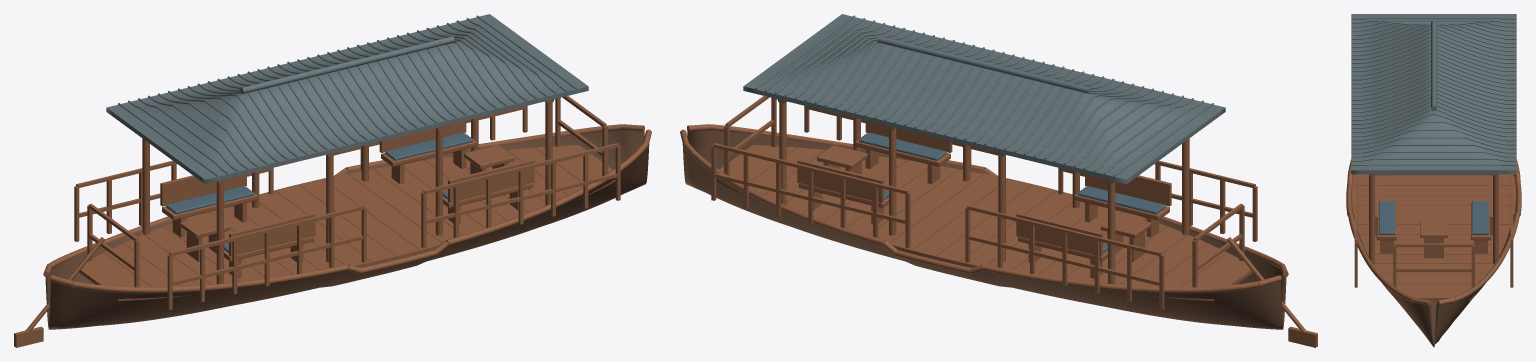
File: barge-lod0.glb
3 views of the same model, side by side, from view 1: azimuth 30°, elevation 25°; view 2: azimuth 150°, elevation 25°; view 3: azimuth 270°, elevation 25° (orthographic). The views are drawn at different scales.
Visible parts, largest first — view 1: barge.wood, barge.roof, barge.hull, barge.cushion; view 2: barge.wood, barge.roof, barge.hull, barge.cushion; view 3: barge.roof, barge.wood, barge.hull, barge.cushion.
Part boxes in pixels (bbox=[...]): barge.wood: bbox=[14, 96, 651, 347]; barge.roof: bbox=[106, 14, 588, 184]; barge.hull: bbox=[45, 127, 649, 329]; barge.cushion: bbox=[166, 132, 472, 252]; barge.wood: bbox=[680, 96, 1317, 347]; barge.roof: bbox=[743, 14, 1225, 184]; barge.hull: bbox=[682, 127, 1286, 329]; barge.cushion: bbox=[859, 132, 1165, 252]; barge.roof: bbox=[1351, 14, 1516, 174]; barge.wood: bbox=[1346, 159, 1521, 305]; barge.hull: bbox=[1351, 174, 1516, 347]; barge.cushion: bbox=[1379, 201, 1488, 234].
Size of the model in its own units: 12.72 by 4.04 by 3.65.
